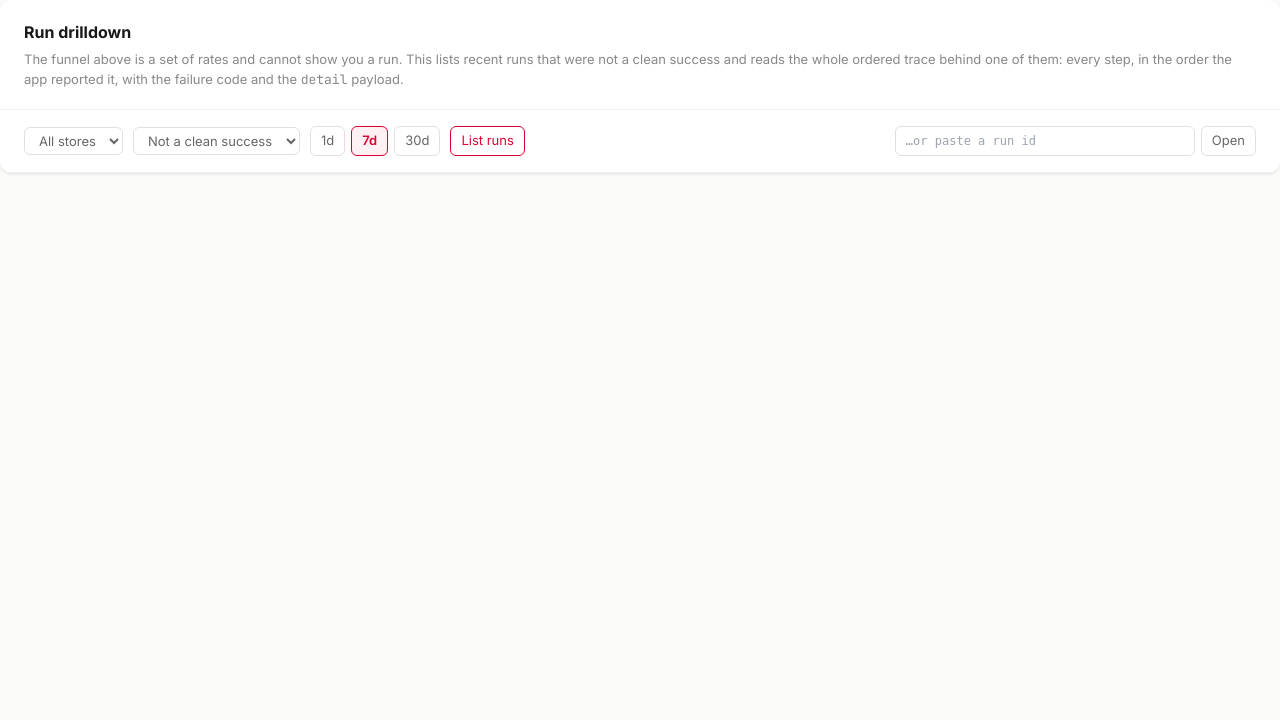
Test: AdminRunDrilldown › labels a truncated trace before the steps, not under them
Click the button "List runs" at (488, 141), box [450,126,525,156]
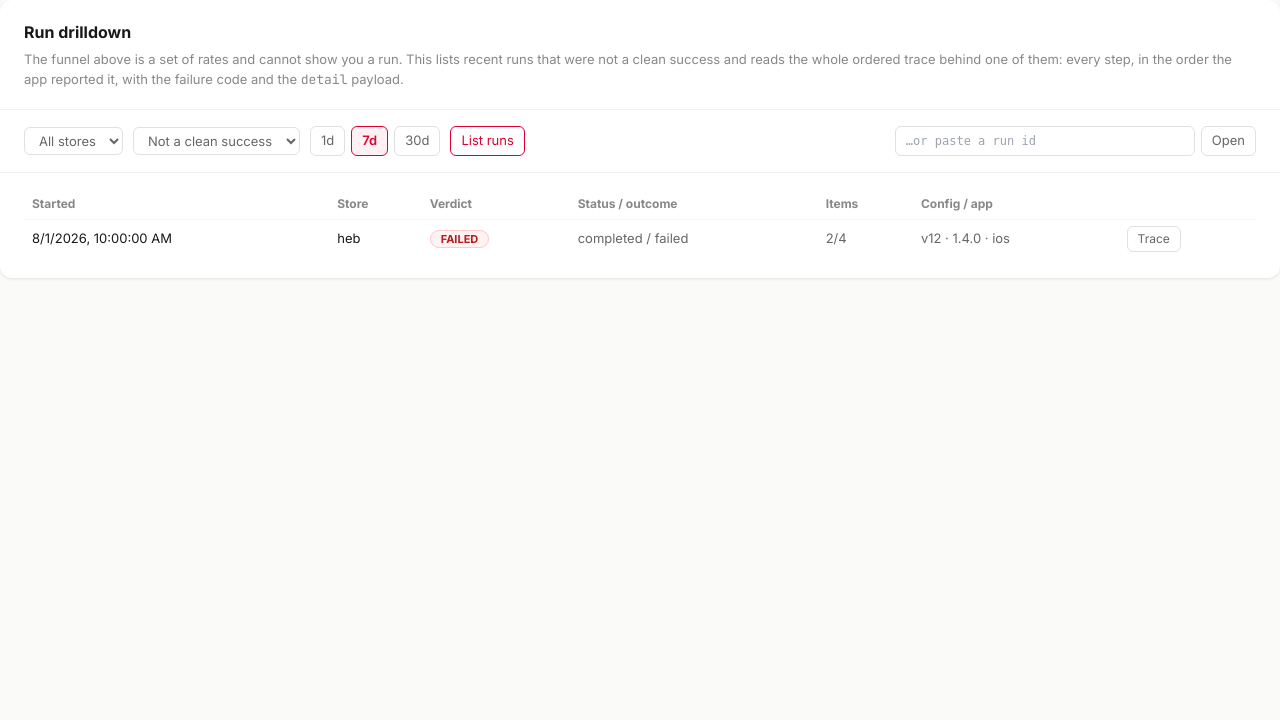
expect the button "Trace" is shown: met
Click the button "Trace" at (1154, 238), box [1127,226,1181,252]
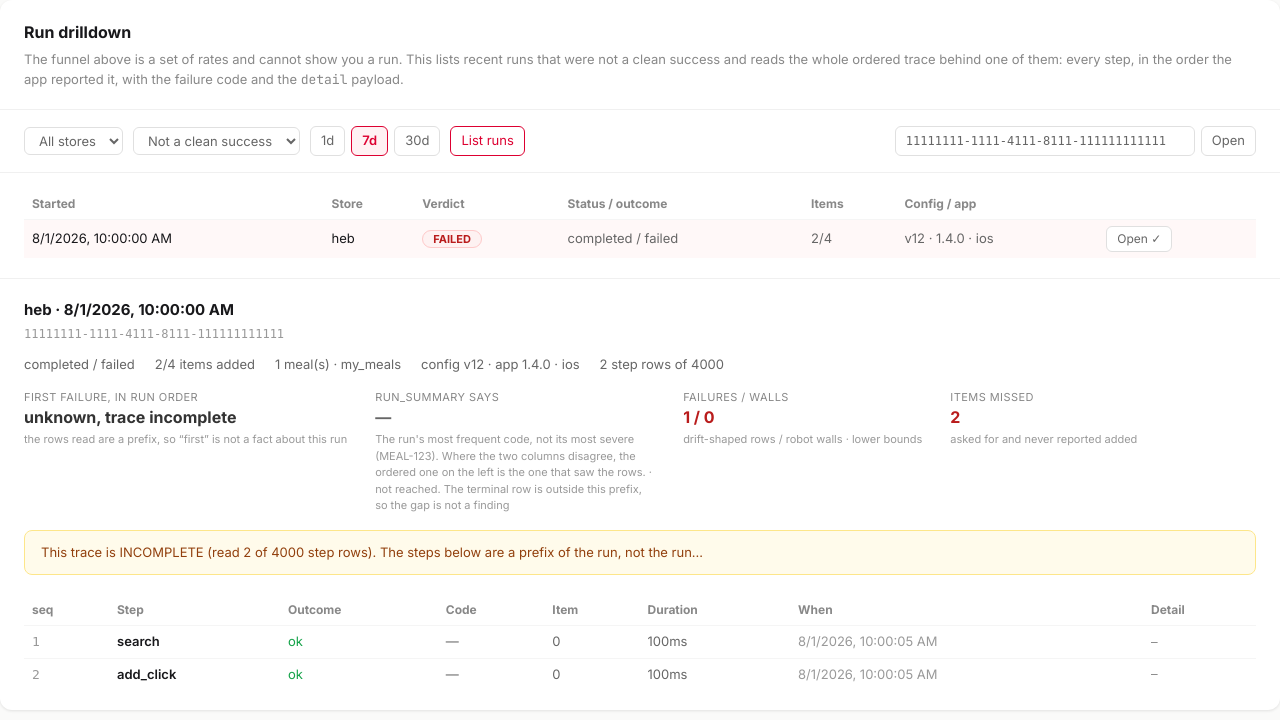
expect the text "First failure, in run order" is shown: met, box [24,390,198,404]
expect the text "INCOMPLETE" is shown: met, box [41,544,703,560]
expect the text "seq" is shown: met, box [32,602,53,617]
